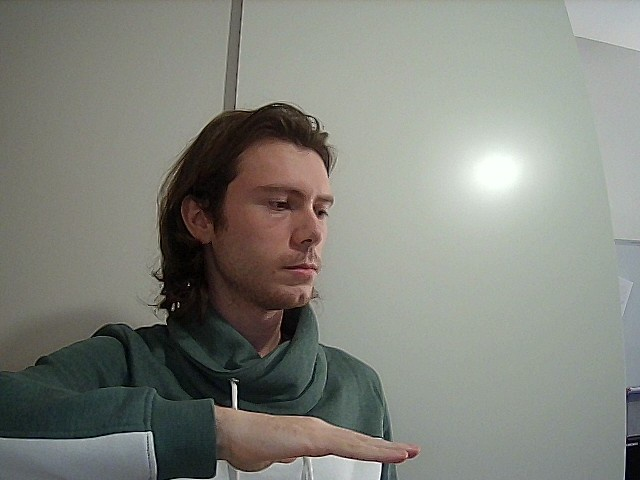space: (1, 387, 456, 480)
